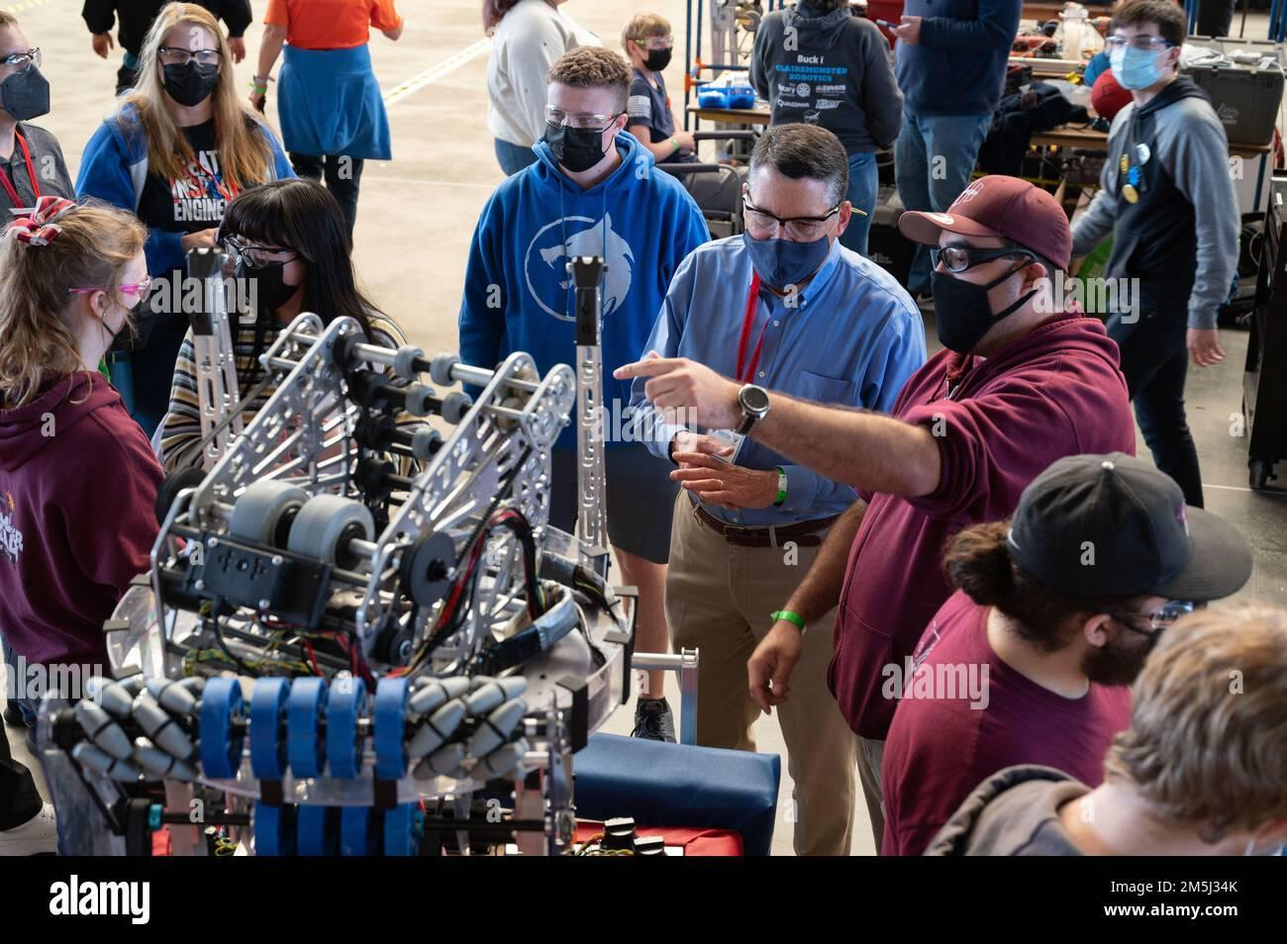robot: (23, 212, 795, 885)
